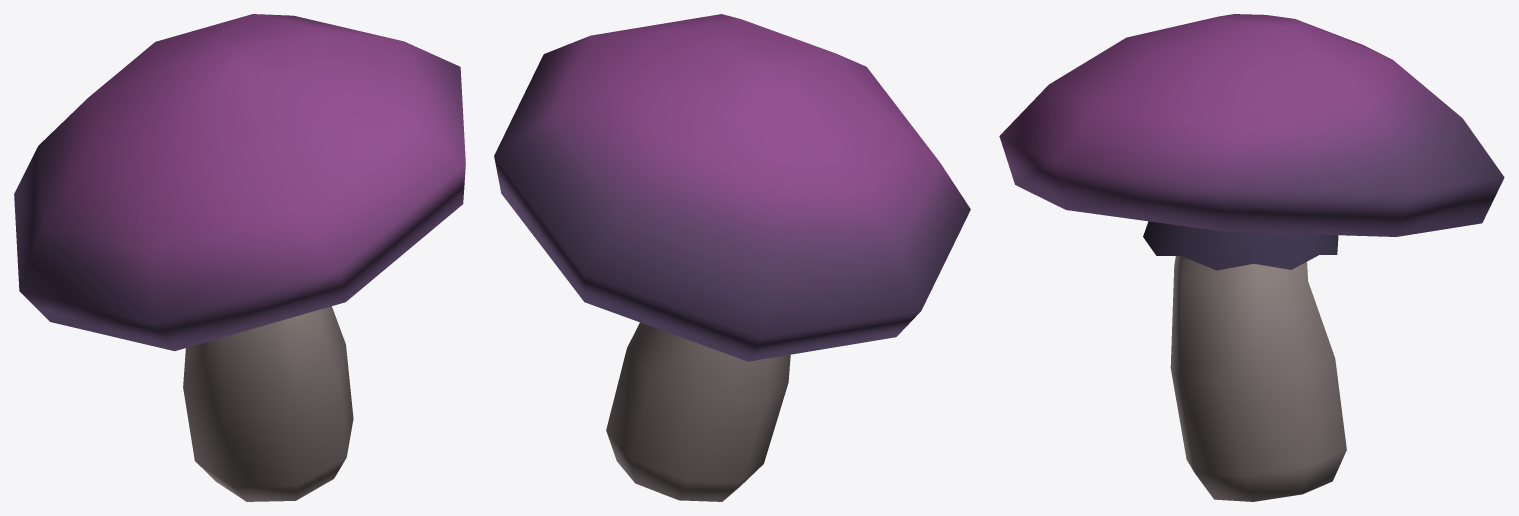
Rendered from mushrooms18.fbx.
The picture shows the model from 3 angles, left to right: view 1: azimuth 30°, elevation 25°; view 2: azimuth 150°, elevation 25°; view 3: azimuth 270°, elevation 25°; orthographic projection. The views are drawn at different scales.
Visible parts, largest first — view 1: mushrooms18; view 2: mushrooms18; view 3: mushrooms18.
Boxes of the visible parts, <box> form: mushrooms18: <box>14,14,465,501</box>; mushrooms18: <box>494,14,970,501</box>; mushrooms18: <box>999,14,1504,501</box>.
Size of the model in its own units: 304 by 315 by 320.
1 material, 1 textured.
